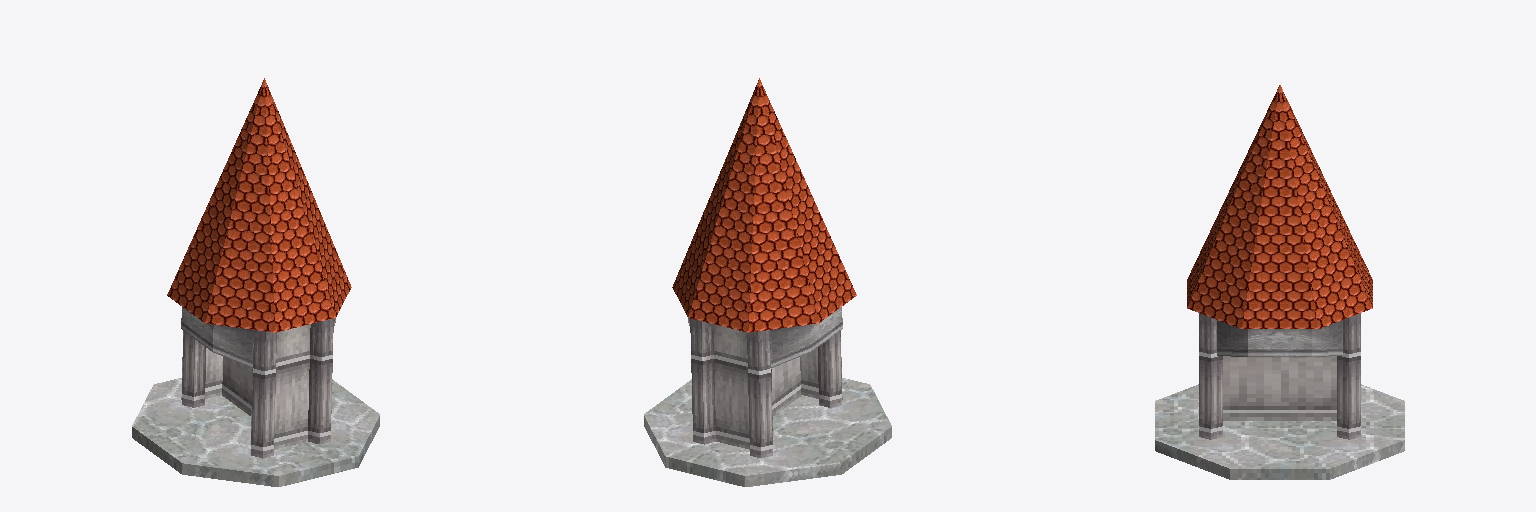
The picture shows the model from 3 angles: view 1: azimuth 30°, elevation 25°; view 2: azimuth 150°, elevation 25°; view 3: azimuth 270°, elevation 25°; orthographic projection.
Parts seen in each view (by area): view 1: Object_12ccccba.jpg, Object_1de0dcae.jpg, Object_3dd0215f.jpg, Object_f78dbd85.jpg; view 2: Object_12ccccba.jpg, Object_1de0dcae.jpg, Object_3dd0215f.jpg, Object_f78dbd85.jpg; view 3: Object_12ccccba.jpg, Object_1de0dcae.jpg, Object_3dd0215f.jpg, Object_f78dbd85.jpg.
Part boxes in pixels (x1,y1,x2,y2): Object_12ccccba.jpg: (167,78,351,332); Object_1de0dcae.jpg: (132,378,379,486); Object_3dd0215f.jpg: (181,319,333,458); Object_f78dbd85.jpg: (181,307,335,367); Object_12ccccba.jpg: (672,78,856,332); Object_1de0dcae.jpg: (644,378,891,486); Object_3dd0215f.jpg: (690,319,842,458); Object_f78dbd85.jpg: (688,307,842,367); Object_12ccccba.jpg: (1187,85,1372,328); Object_1de0dcae.jpg: (1155,384,1404,479); Object_3dd0215f.jpg: (1199,313,1360,439); Object_f78dbd85.jpg: (1217,320,1342,356).
Bounding box in the file's own units: 1.47 × 2.5 × 1.61.
Materials: 5 (4 with a texture image).